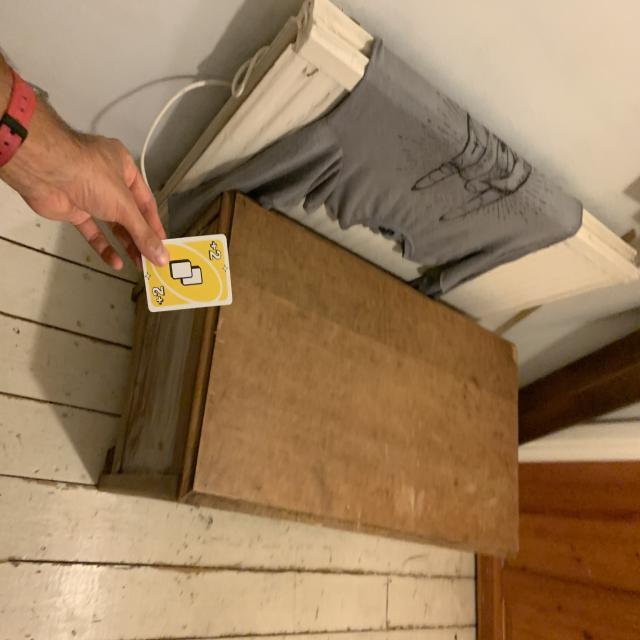lyellow-20: (202, 239, 225, 263)
